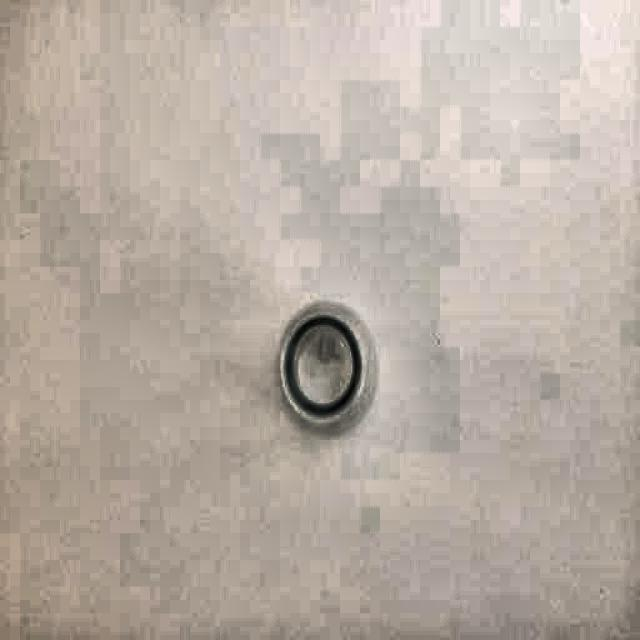glass: (277, 296, 381, 429)
